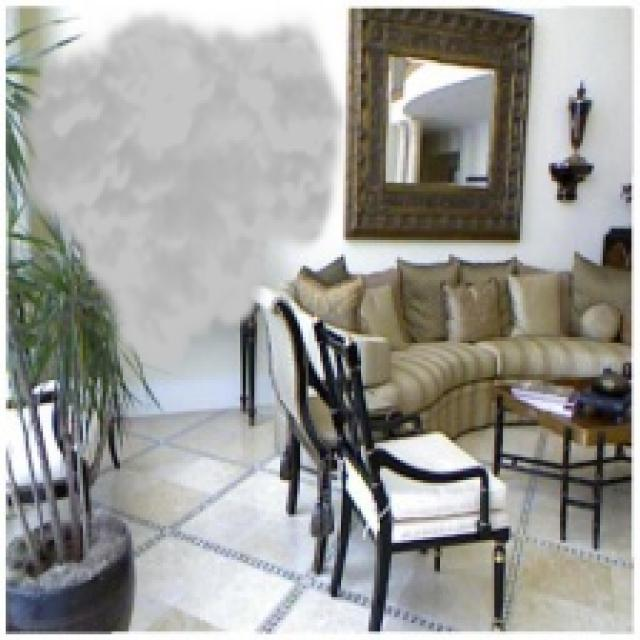smoke: (9, 6, 352, 386)
